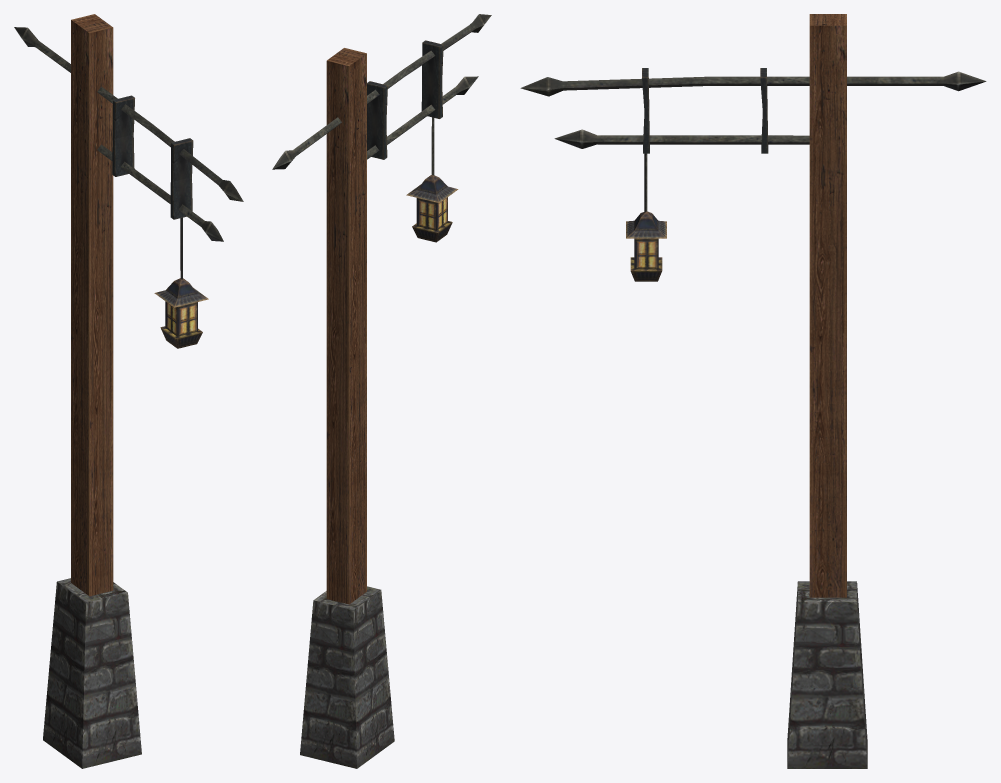
File: kqzd_ludeng.FBX
3 renders of one model, left to right at view 1: azimuth 30°, elevation 25°; view 2: azimuth 150°, elevation 25°; view 3: azimuth 270°, elevation 25°, orthographic. The views are drawn at different scales.
Parts seen in each view (by area): view 1: kqzd_ludeng; view 2: kqzd_ludeng; view 3: kqzd_ludeng.
Boxes of the visible parts, x1,y1,x2,y2 form: kqzd_ludeng: [14, 14, 243, 768]; kqzd_ludeng: [272, 14, 491, 768]; kqzd_ludeng: [520, 14, 986, 768].
Size of the model in its own units: 31.89 by 212 by 369.
